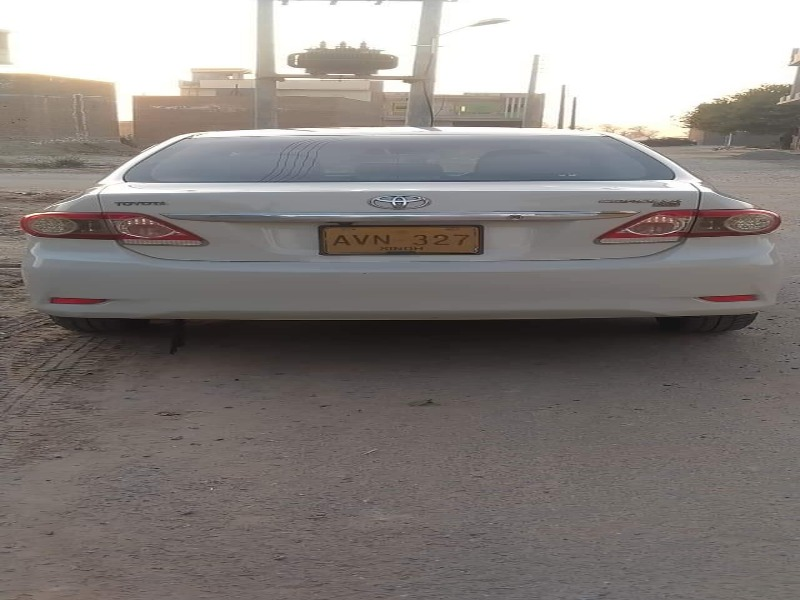License Plate: (317, 220, 489, 262)
